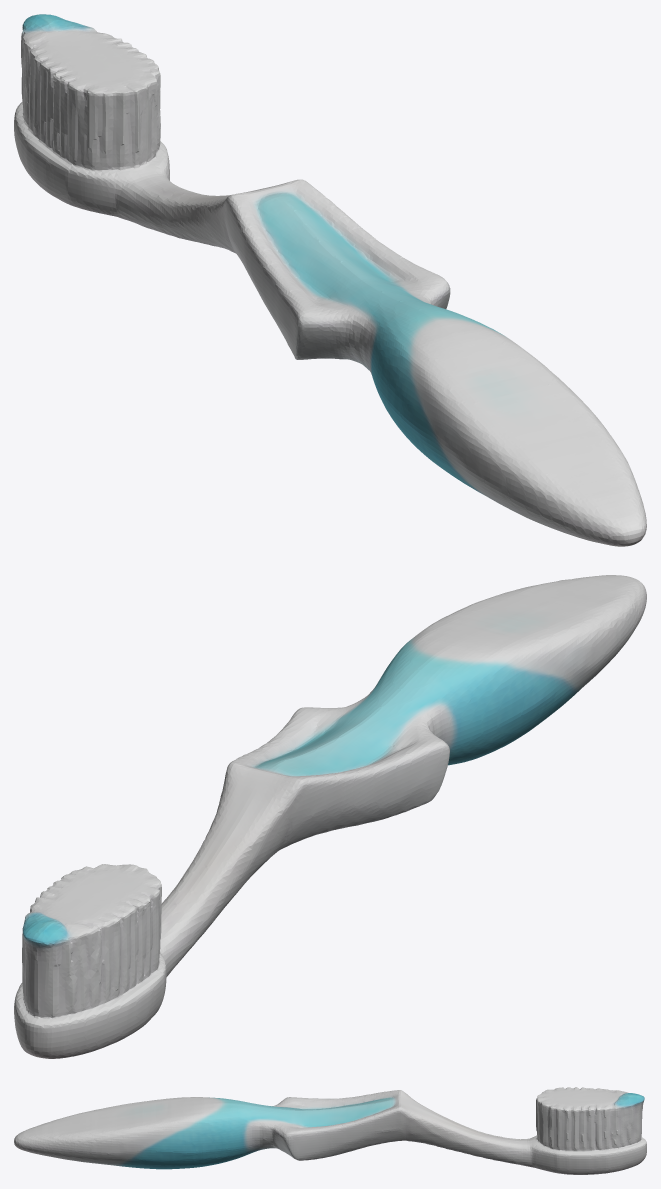
Rendered from obj2_sam3d.glb.
3 renders of one model, top to bottom at view 1: azimuth 30°, elevation 25°; view 2: azimuth 150°, elevation 25°; view 3: azimuth 270°, elevation 25°, orthographic. The views are drawn at different scales.
Visible parts, largest first — view 1: world; view 2: world; view 3: world.
Part boxes in pixels (x1,y1,x2,y2): world: [14, 14, 646, 546]; world: [14, 575, 646, 1058]; world: [14, 1087, 646, 1174].
Size of the model in its own units: 0.1455 by 0.1193 by 1.
